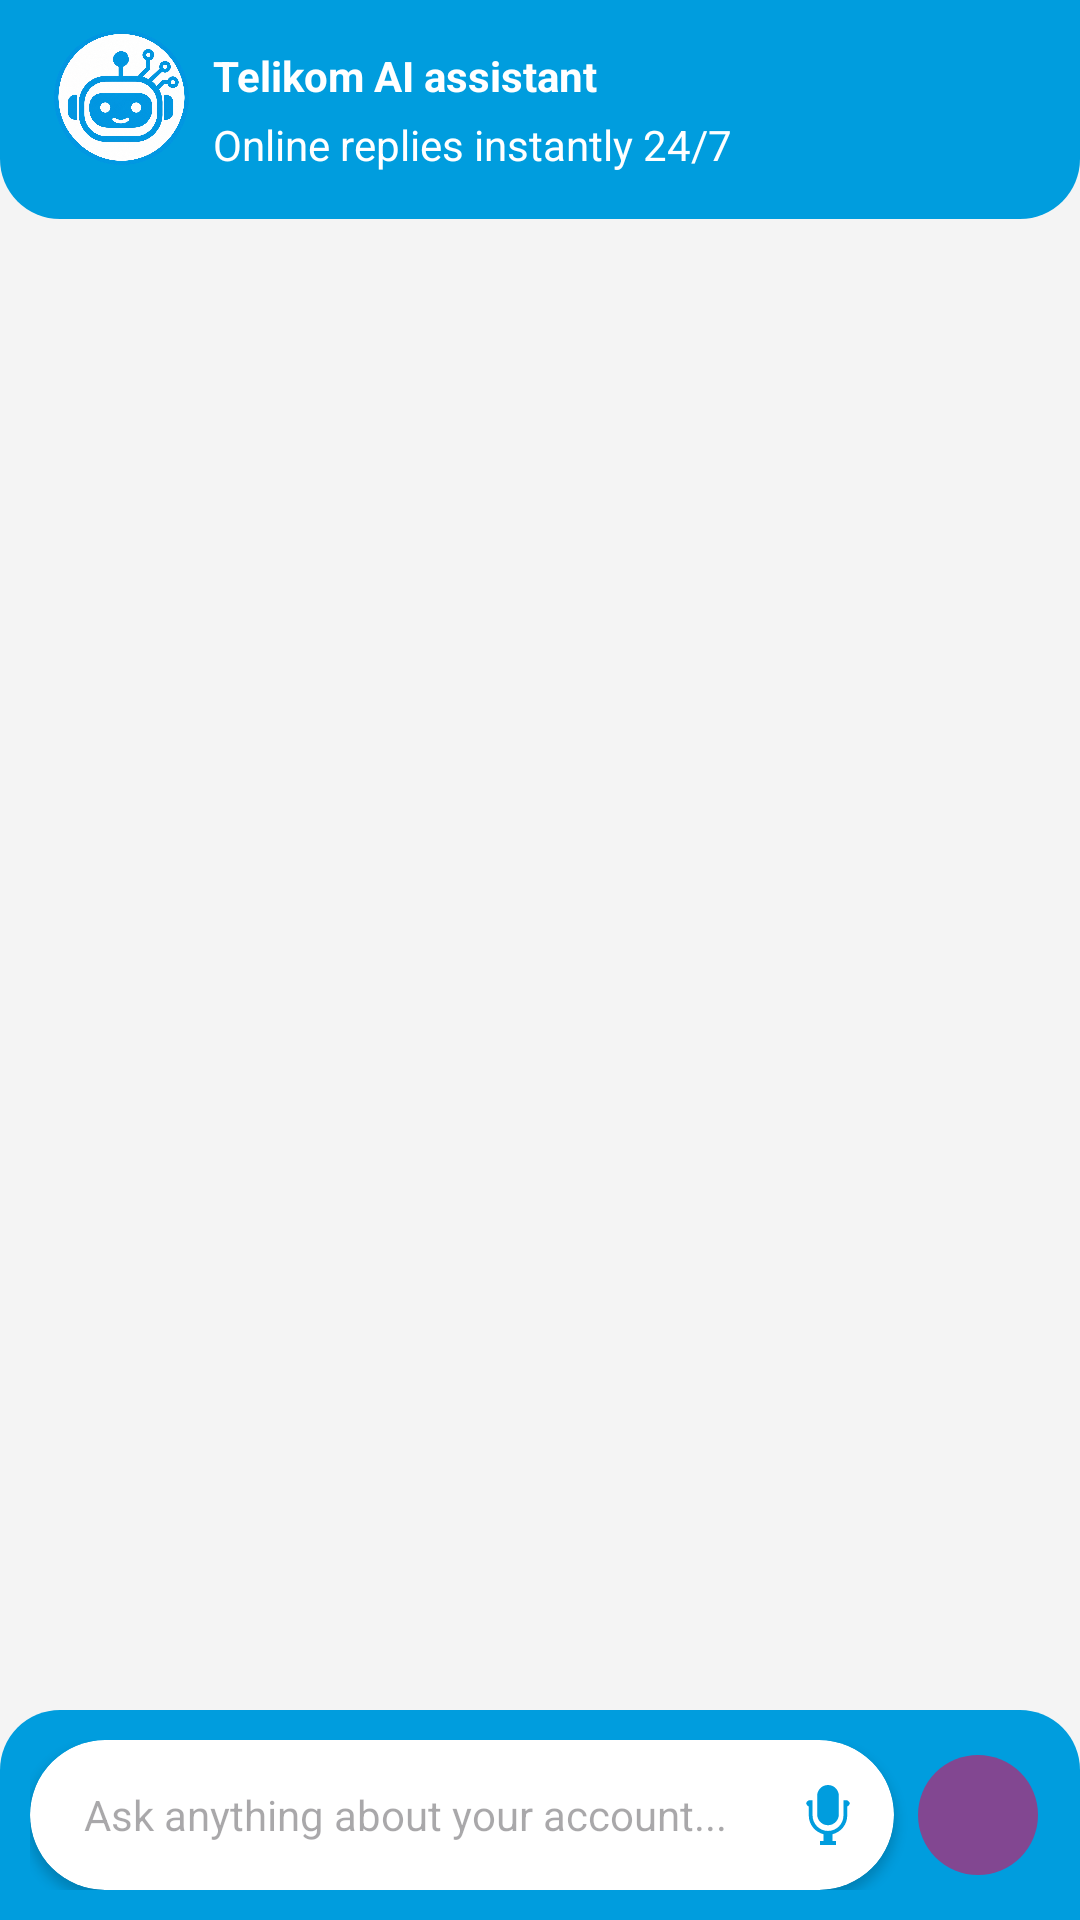

Icon bounding boxes for this 1080 x 1920 phone screenshot, format Rect(x1, y1, x2, y2):
voice mic: Rect(806, 1785, 850, 1845)
